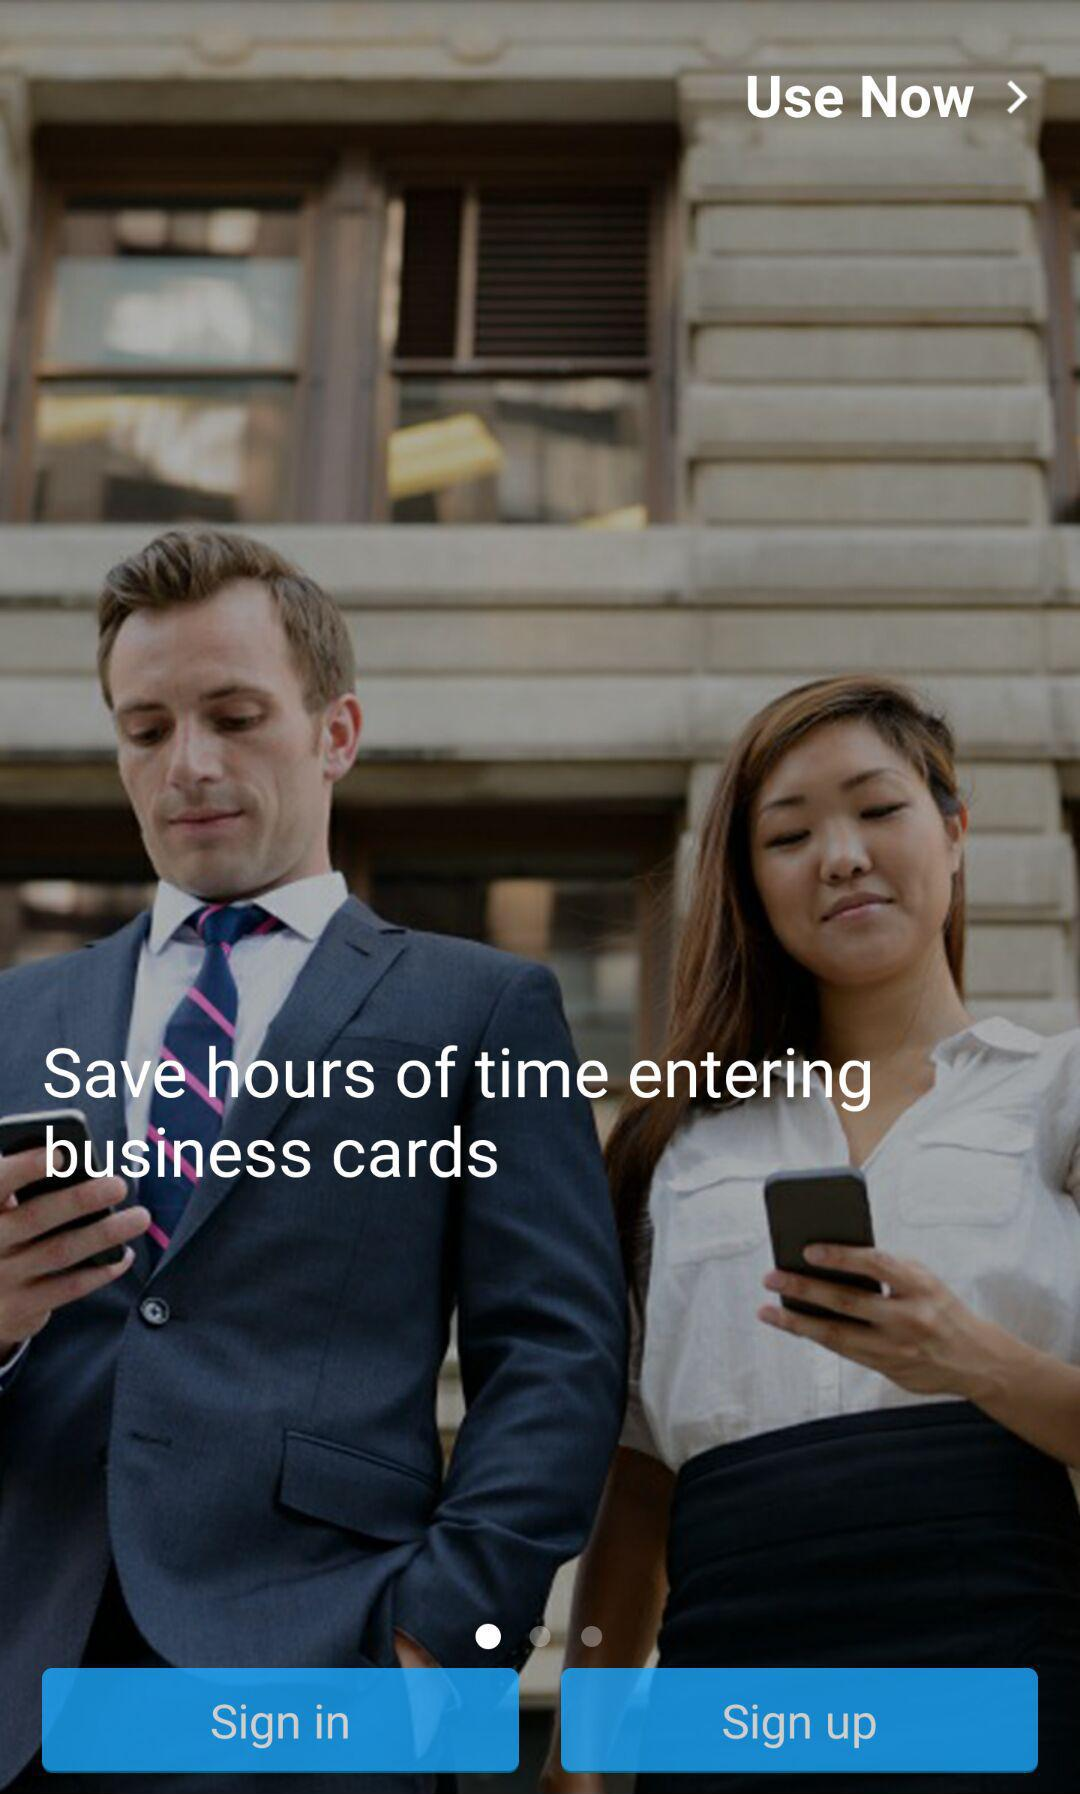BackgroundImage: (1, 1, 1080, 1794)
Icon: (1004, 79, 1029, 117)
PageIndicator: (474, 1622, 603, 1652)
Text: (44, 1044, 872, 1181), (746, 76, 975, 120)
TextButton: (42, 1667, 520, 1773), (561, 1667, 1038, 1773)
